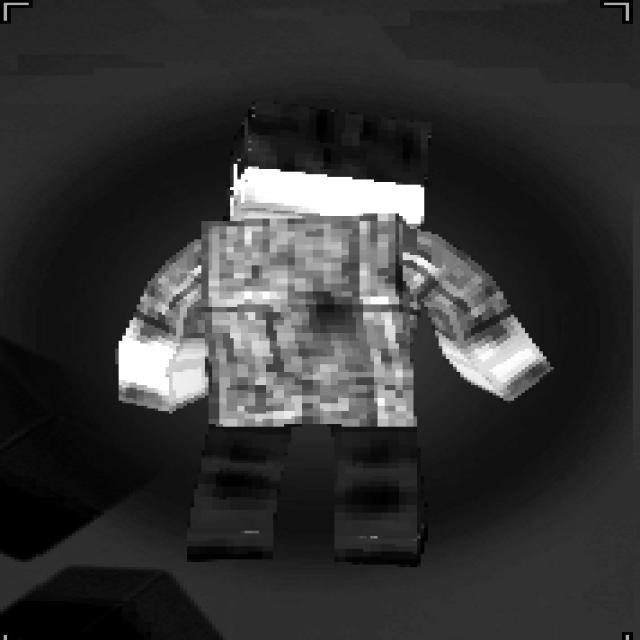Head: (223, 99, 431, 226)
Player: (111, 96, 554, 567)
